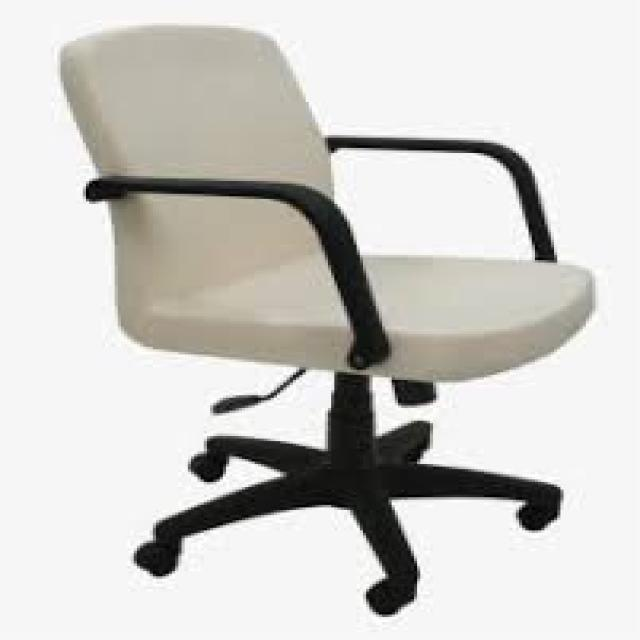chair: (55, 20, 597, 617)
